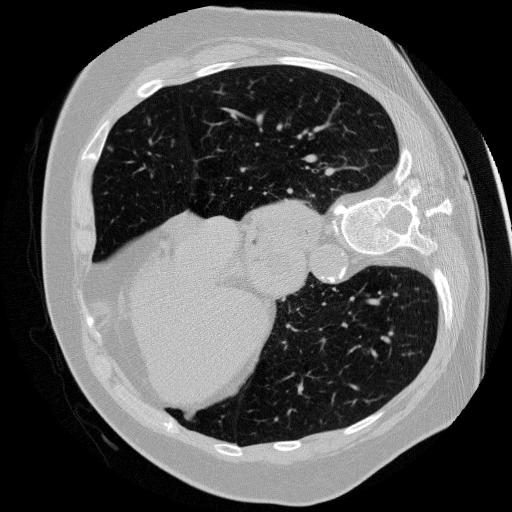nodule: (103, 141, 116, 154)
